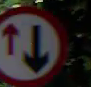Two way: (1, 5, 65, 82)
